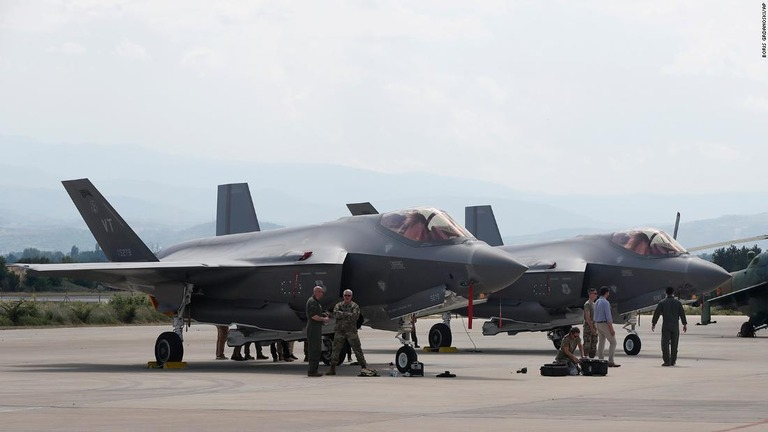F35: (5, 174, 529, 376), (344, 201, 735, 357)
